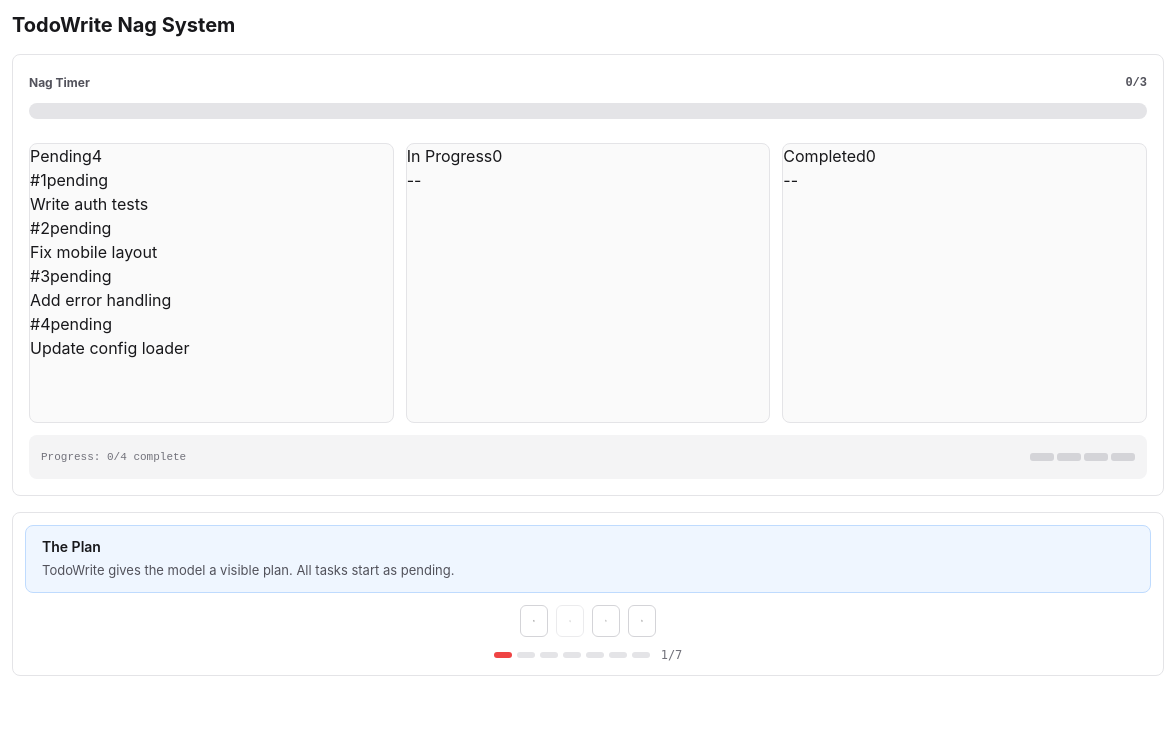
Test: S05TodoWrite › renders the TodoWrite kanban and advances through nag-driven task movement
Click the button titled "Next step" at (642, 621), box 628,605 -> 656,637
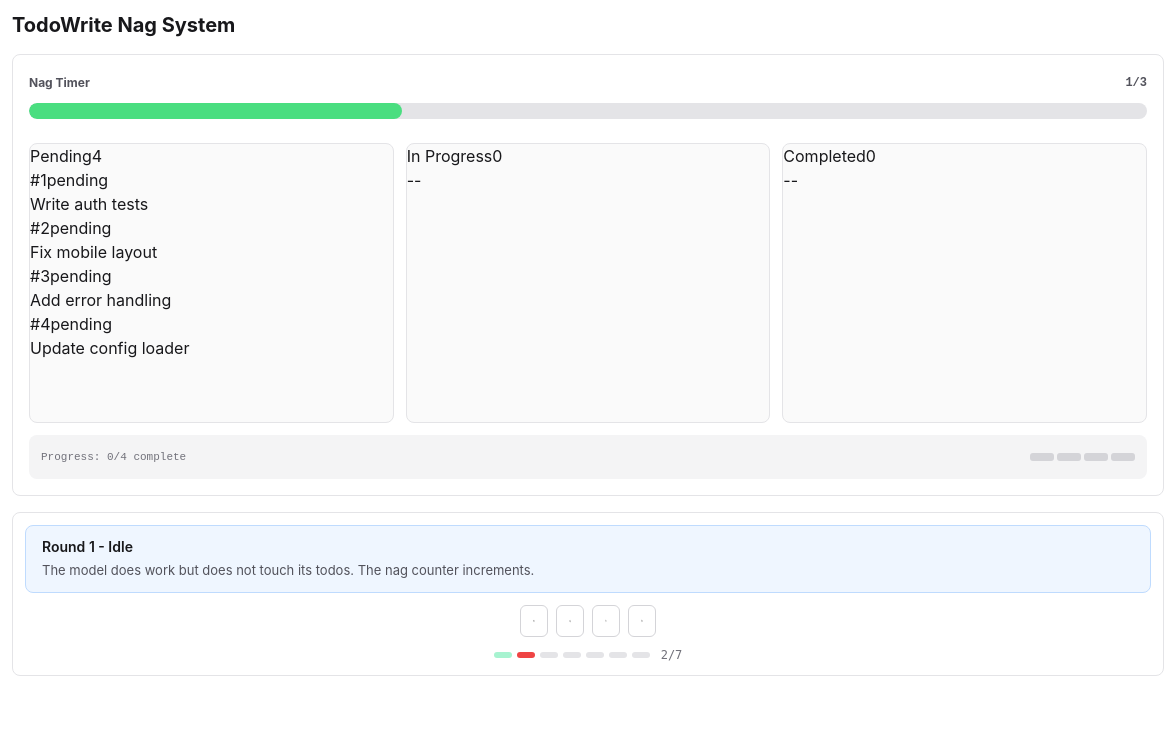
expect the text "Round 1 - Idle" is shown: met, box 42,538 -> 133,555
expect the text "1/3" is shown: met, box 1125,76 -> 1147,90
Click the button titled "Next step" at (642, 621), box 628,605 -> 656,637
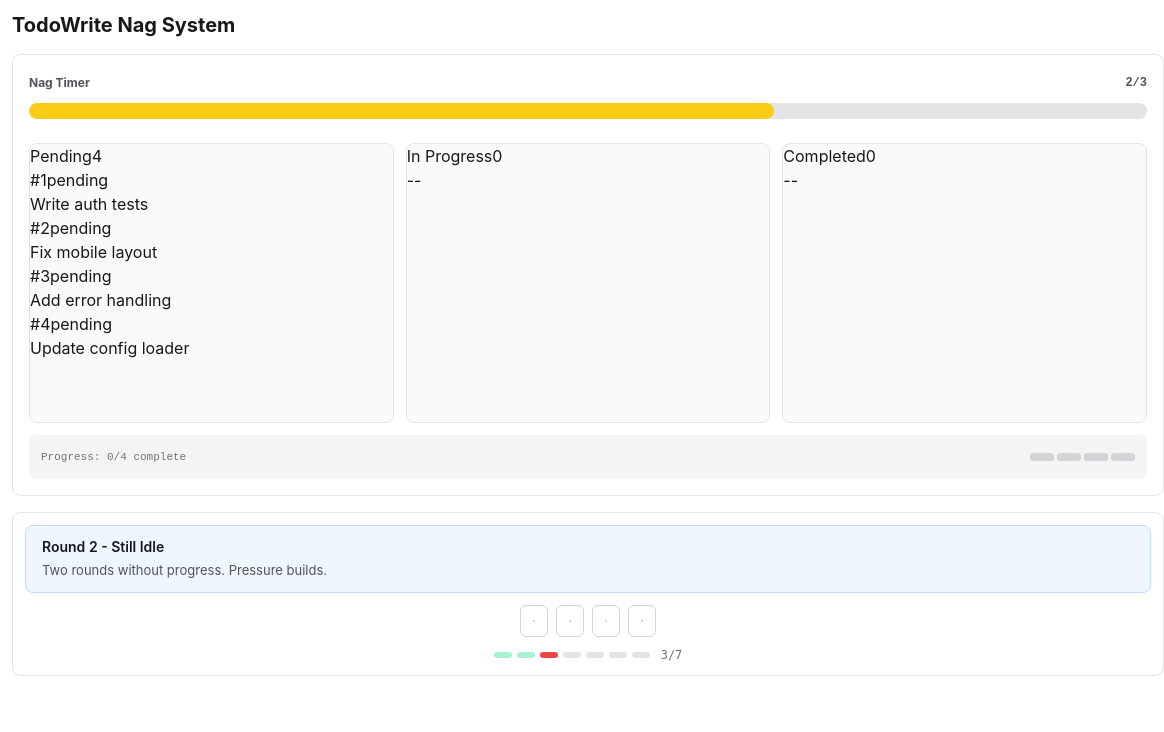
expect the text "Round 2 - Still Idle" is shown: met, box 42,538 -> 164,555
expect the text "2/3" is shown: met, box 1125,76 -> 1147,90
Click the button titled "Next step" at (642, 621), box 628,605 -> 656,637
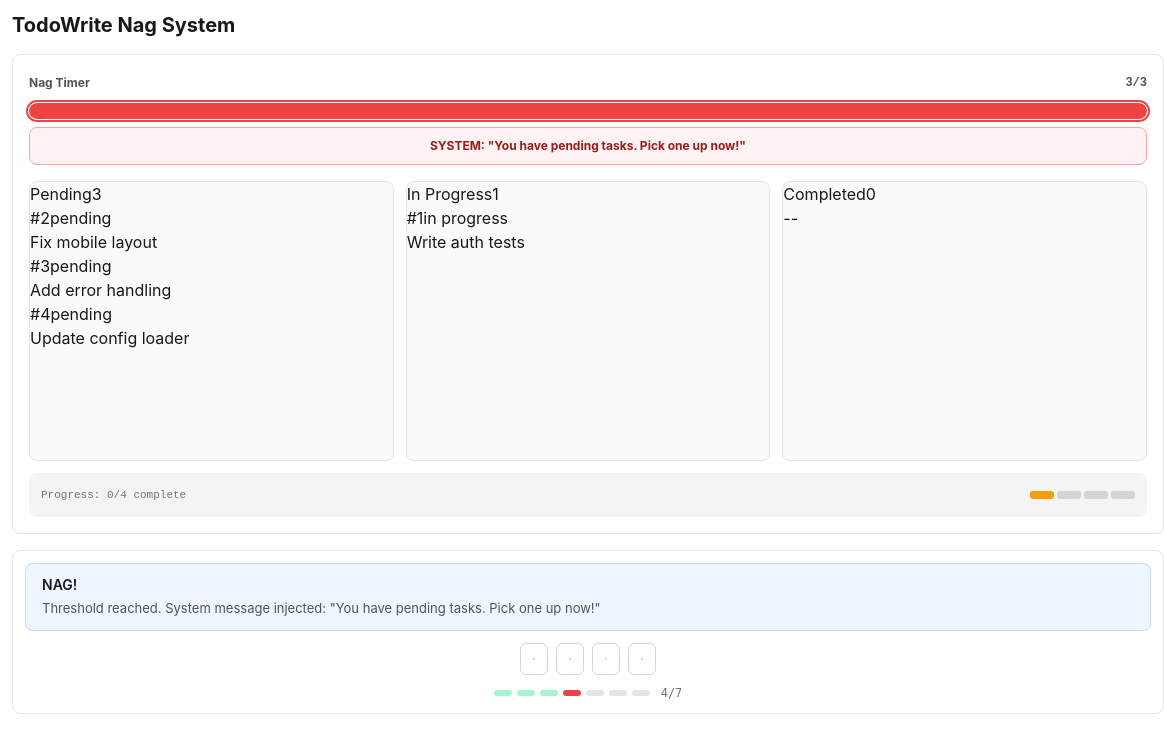
expect the text "NAG!" is shown: met, box 42,576 -> 77,593
expect the text "3/3" is shown: met, box 1125,76 -> 1147,90
expect the text with test id "system-nag" reads "SYSTEM: \"You have pending tasks. Pick one up now!\"": met, box 430,138 -> 746,153
Click the button titled "Next step" at (642, 659), box 628,643 -> 656,675
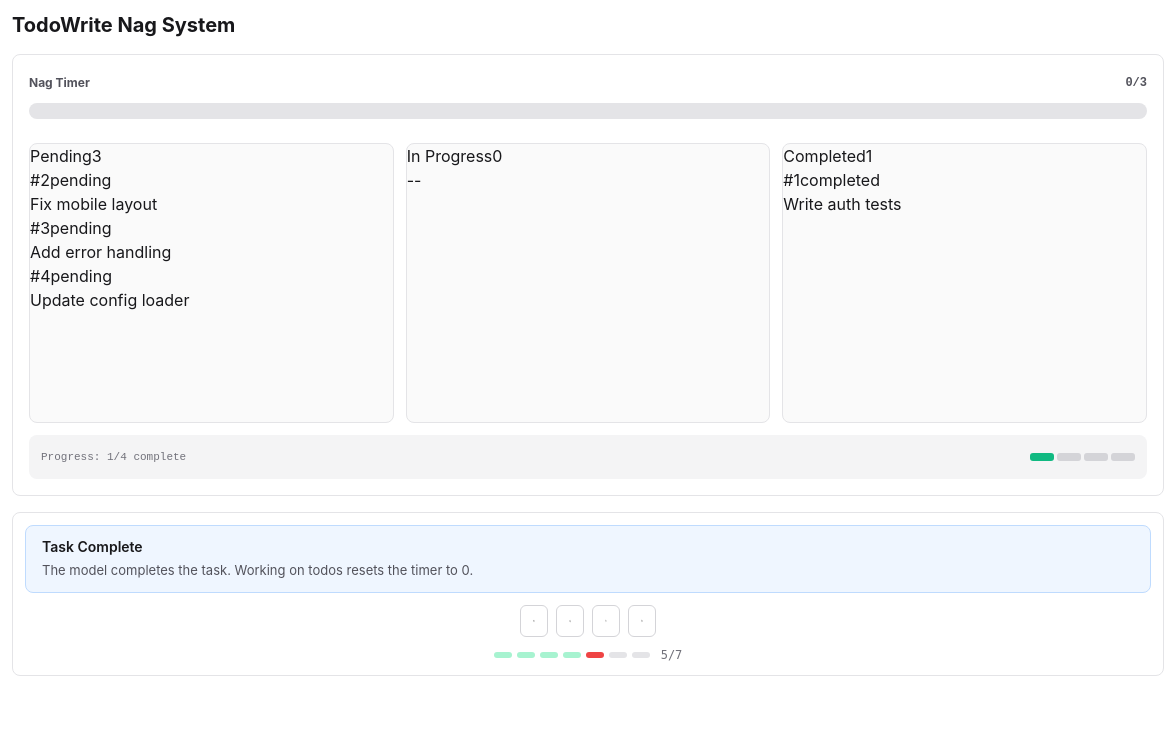
expect the text "Task Complete" is shown: met, box 42,538 -> 143,555
expect the text "Progress: 1/4 complete" is shown: met, box 41,451 -> 186,463
expect the element with test id "kanban-column" shows "Write auth tests": met, box 783,194 -> 902,214
Click the button titled "Next step" at (642, 621), box 628,605 -> 656,637
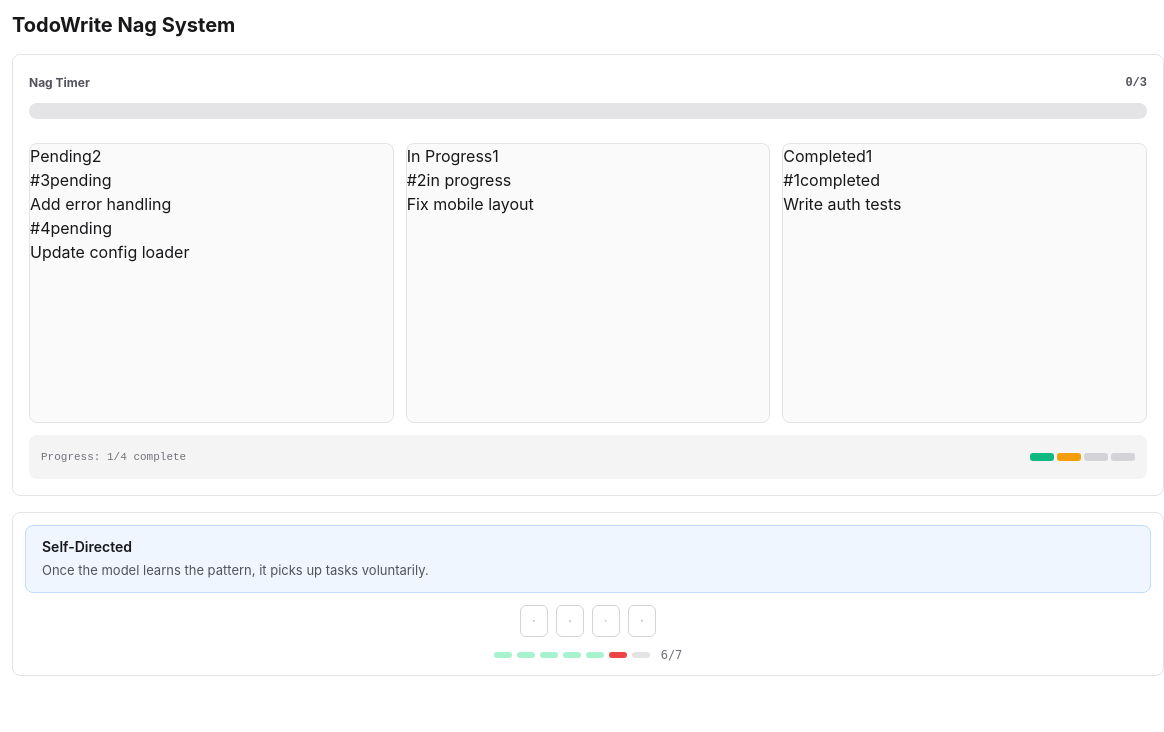
expect the text "Self-Directed" is shown: met, box 42,538 -> 132,555
expect the element with test id "kanban-column" shows "Fix mobile layout": met, box 407,194 -> 534,214
Click the button titled "Next step" at (642, 621), box 628,605 -> 656,637
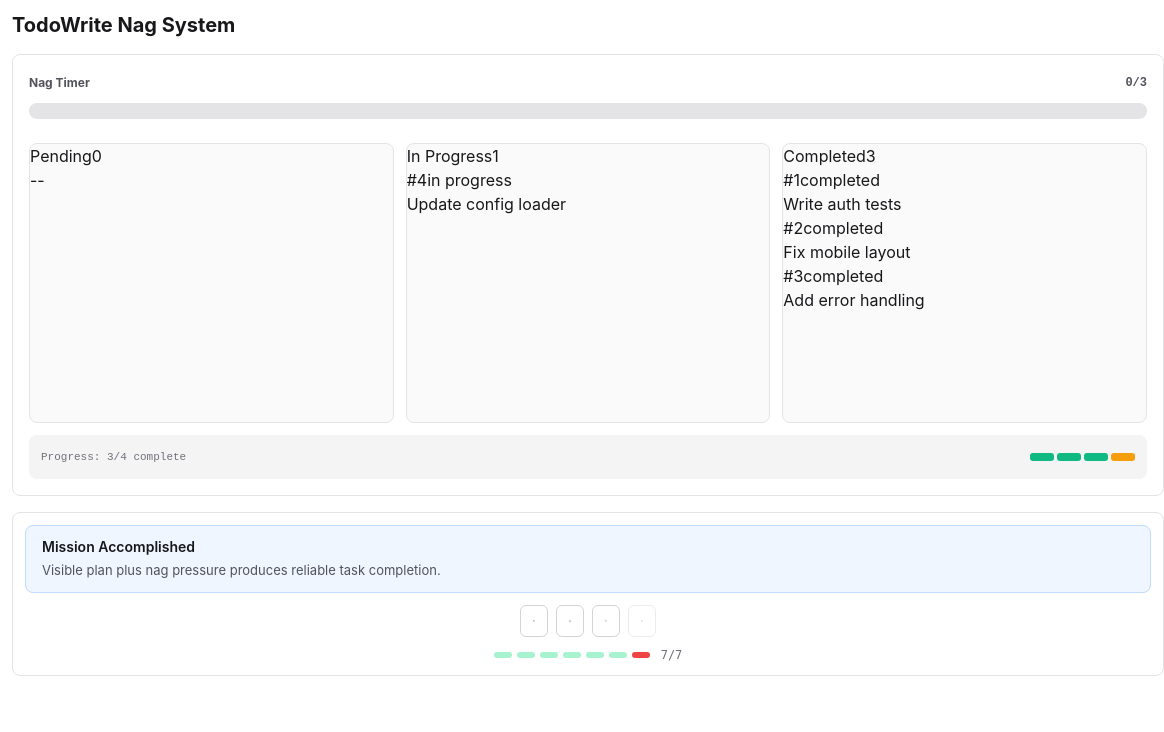
expect the text "Mission Accomplished" is shown: met, box 42,538 -> 195,555
expect the text "Progress: 3/4 complete" is shown: met, box 41,451 -> 186,463
expect the element with test id "kanban-column" shows "Update config loader": met, box 407,194 -> 566,214
